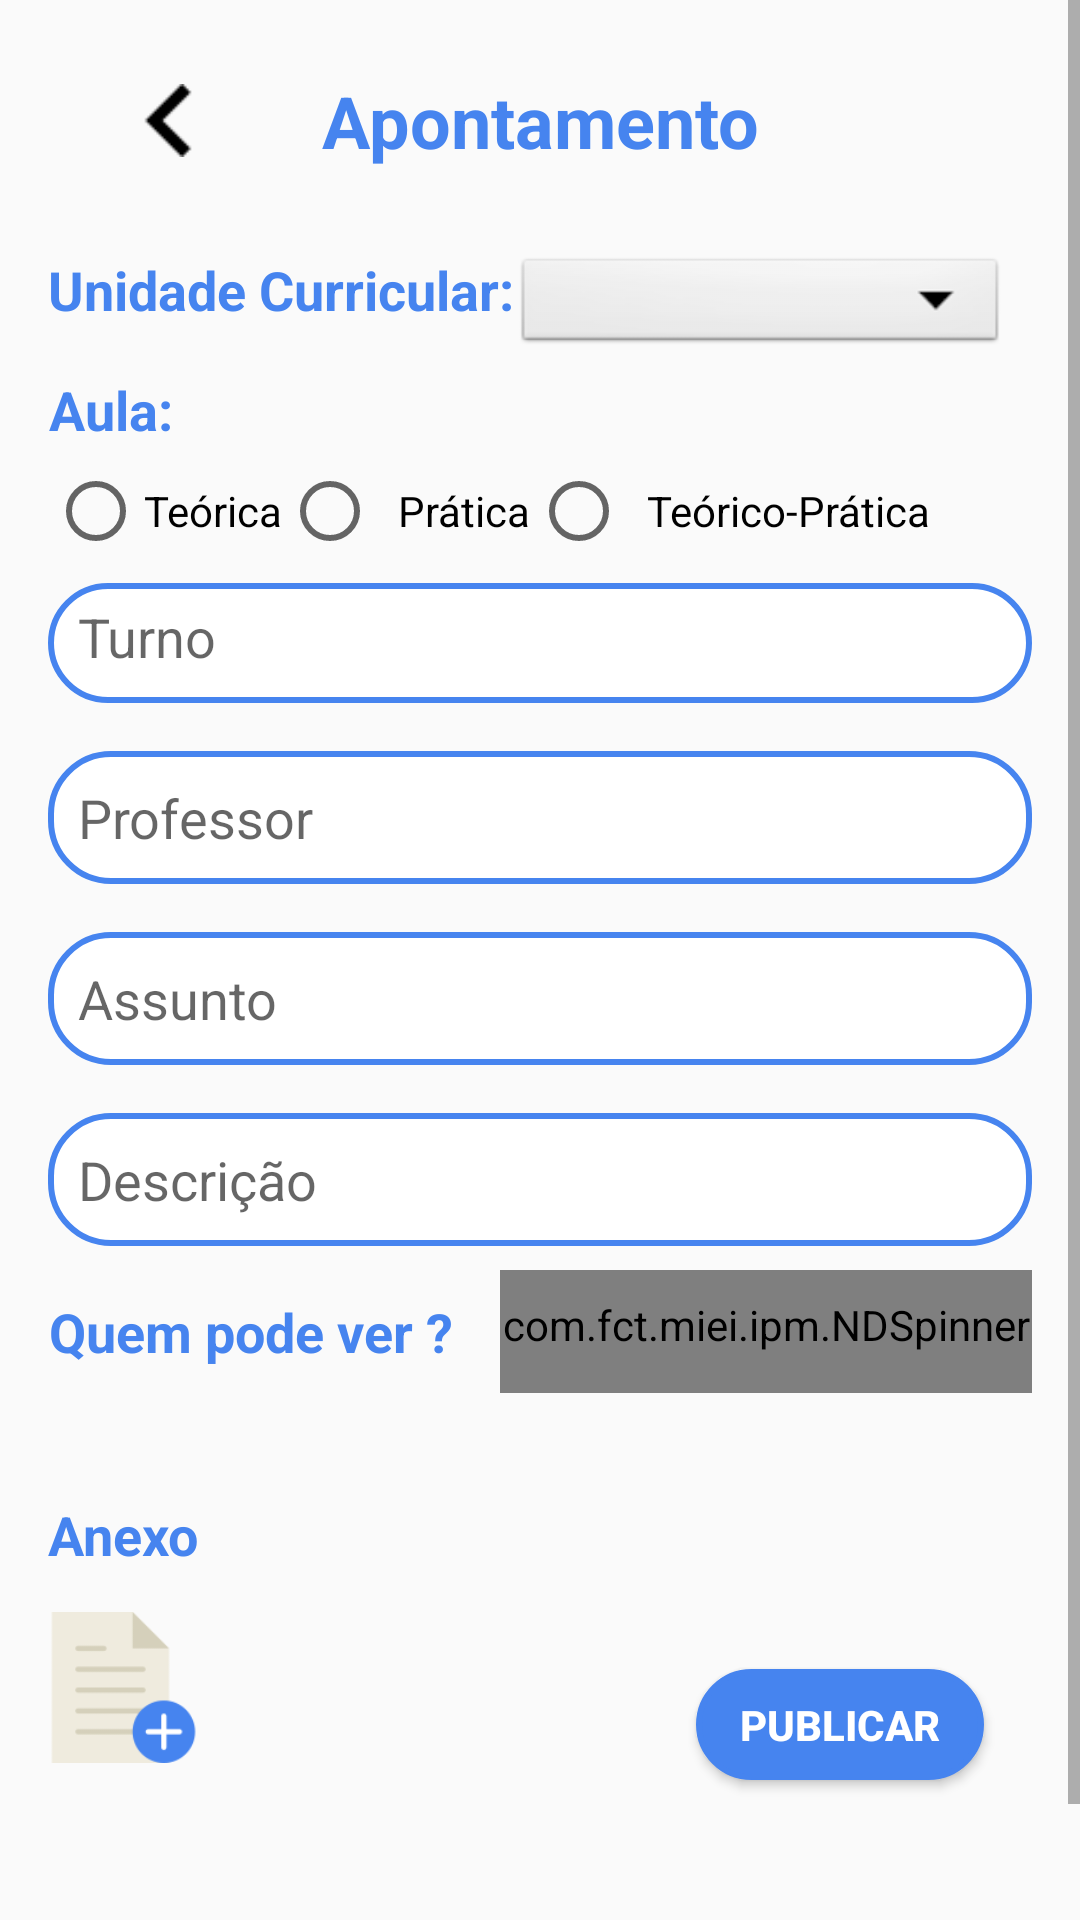

Icon bounding boxes for this 1080px x 1920px phone screenshot, format box(x1, y1, x2, y2):
backblack: box(145, 84, 191, 157)
